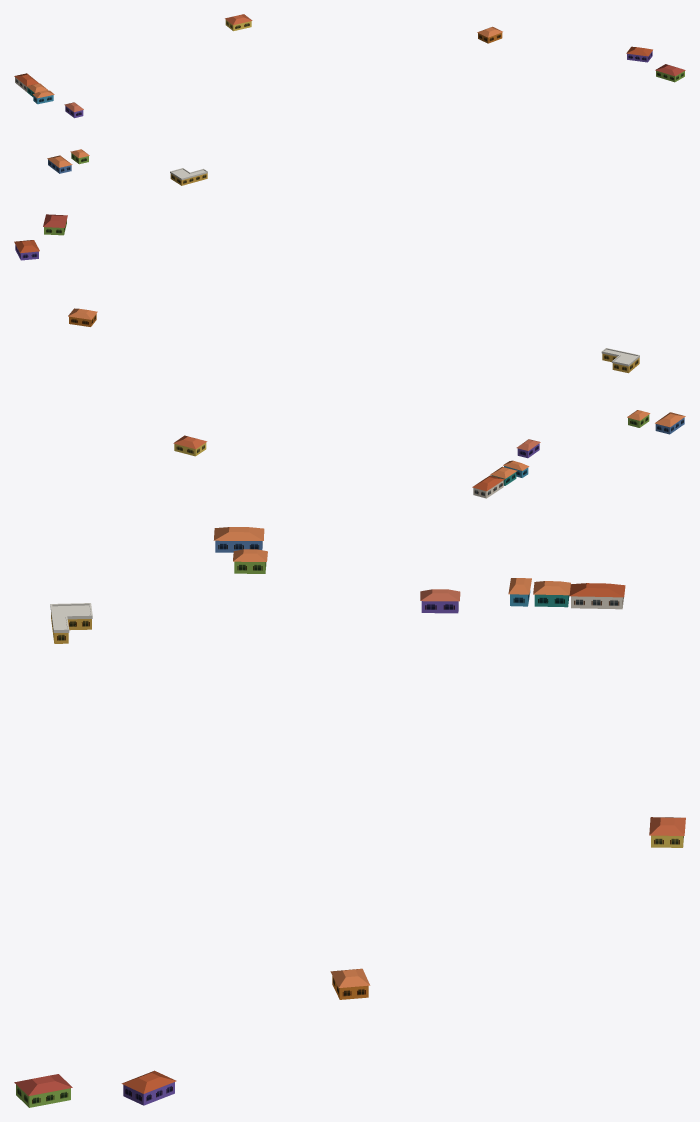
The model's file is msb_oranjestad_m10_6.glb.
3 renders of one model, top to bottom at view 1: azimuth 30°, elevation 25°; view 2: azimuth 150°, elevation 25°; view 3: azimuth 270°, elevation 25°, orthographic. The views are drawn at different scales.
Visible parts, largest first — view 1: msb_oranjestad_m10_6_lod0; view 2: msb_oranjestad_m10_6_lod0; view 3: msb_oranjestad_m10_6_lod0.
Boxes of the visible parts, <box> form: msb_oranjestad_m10_6_lod0: <box>14,14,685,185</box>; msb_oranjestad_m10_6_lod0: <box>14,214,685,498</box>; msb_oranjestad_m10_6_lod0: <box>14,527,685,1107</box>.
Size of what is drawn, in the model's own units: 328 by 10.17 by 169.
3 materials, 1 textured.
